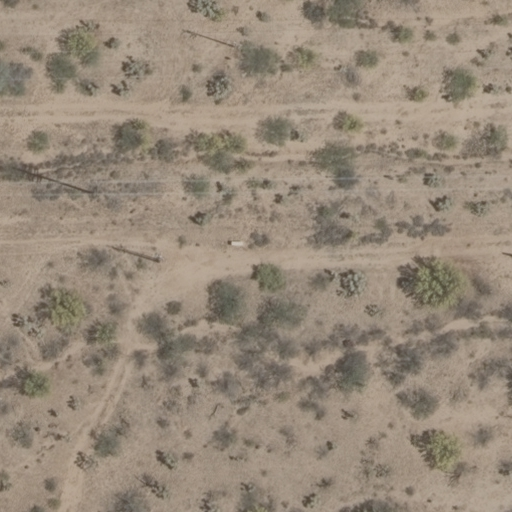DT: (73, 170, 108, 204), (224, 37, 247, 55)
